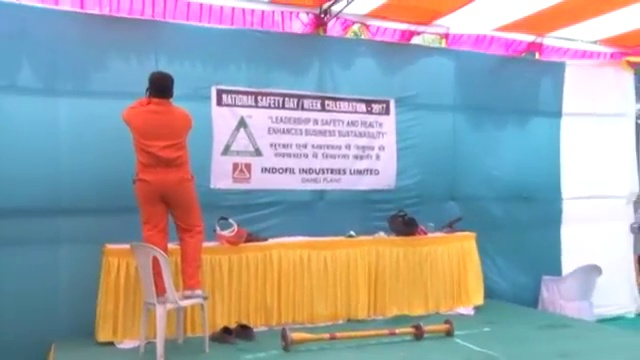helmet_off: (142, 70, 175, 105)
person: (121, 70, 210, 305)
